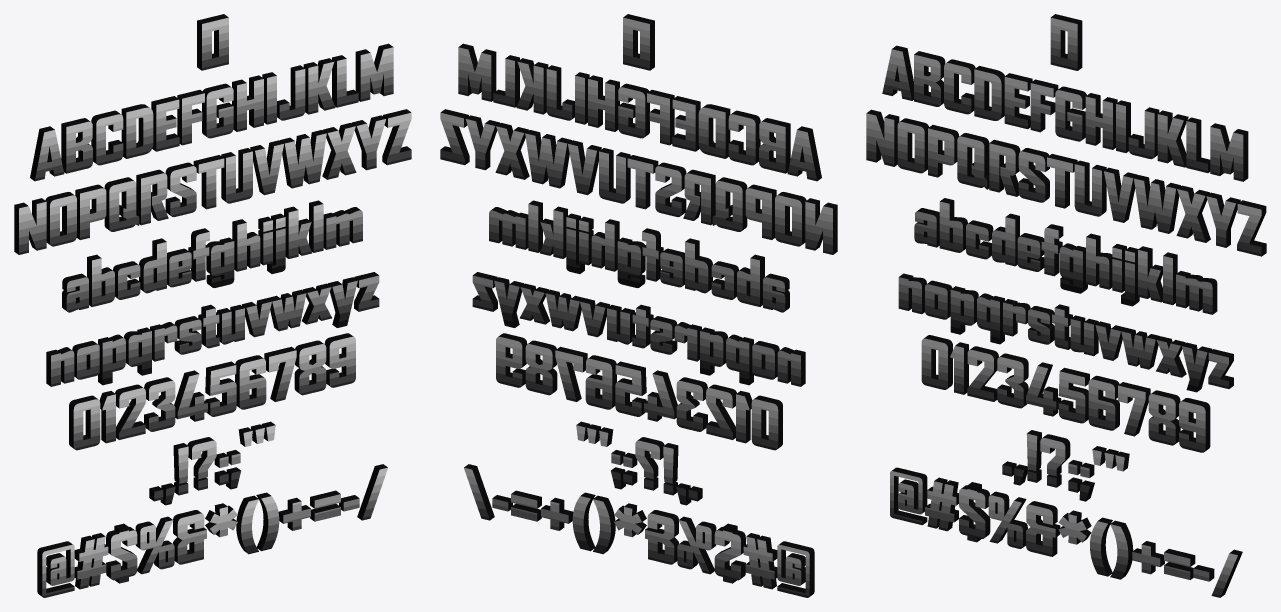
Rendered from font.technical.fbx.
The picture shows the model from 3 angles, left to right: view 1: azimuth 30°, elevation 25°; view 2: azimuth 150°, elevation 25°; view 3: azimuth 330°, elevation 25°; orthographic projection.
Parts seen in each view (by area): view 1: MESH technical.upper.w, MESH technical.symbol.at, MESH technical.upper.m, MESH technical.symbol.percent, MESH technical.upper.n, MESH technical.replacement, MESH technical.upper.q, MESH technical.upper.b, MESH technical.number.0, MESH technical.number.8, MESH technical.symbol.ampersand, MESH technical.upper.d (+64 smaller); view 2: MESH technical.upper.w, MESH technical.symbol.at, MESH technical.upper.m, MESH technical.symbol.percent, MESH technical.upper.n, MESH technical.replacement, MESH technical.upper.q, MESH technical.upper.b, MESH technical.number.0, MESH technical.number.8, MESH technical.symbol.ampersand, MESH technical.upper.d (+64 smaller); view 3: MESH technical.upper.w, MESH technical.upper.m, MESH technical.symbol.at, MESH technical.replacement, MESH technical.upper.q, MESH technical.upper.n, MESH technical.symbol.ampersand, MESH technical.number.9, MESH technical.upper.u, MESH technical.symbol.dollar, MESH technical.symbol.percent, MESH technical.number.6 (+64 smaller).
Part boxes in pixels (x1,y1,x2,y2): MESH technical.upper.w: (280,130,326,188); MESH technical.symbol.at: (37,541,74,597); MESH technical.upper.m: (355,43,393,101); MESH technical.symbol.percent: (135,516,174,574); MESH technical.upper.n: (14,198,46,254); MESH technical.replacement: (197,14,228,70); MESH technical.upper.q: (104,177,139,231); MESH technical.upper.b: (61,118,92,173); MESH technical.number.0: (69,395,100,450); MESH technical.number.8: (294,340,326,395); MESH technical.symbol.ampersand: (173,510,206,564); MESH technical.upper.d: (121,104,153,158); MESH technical.upper.w: (525,130,571,188); MESH technical.symbol.at: (777,541,814,597); MESH technical.upper.m: (458,43,496,101); MESH technical.symbol.percent: (677,516,716,574); MESH technical.upper.n: (805,198,837,254); MESH technical.replacement: (623,14,654,70); MESH technical.upper.q: (712,177,747,231); MESH technical.upper.b: (759,118,790,173); MESH technical.number.0: (751,395,782,450); MESH technical.number.8: (525,340,557,395); MESH technical.symbol.ampersand: (645,510,678,564); MESH technical.upper.d: (698,104,730,158); MESH technical.upper.w: (1134,175,1180,233); MESH technical.upper.m: (1210,123,1248,181); MESH technical.symbol.at: (890,467,927,525); MESH technical.replacement: (1050,14,1082,70); MESH technical.upper.q: (957,133,989,189); MESH technical.upper.n: (866,109,899,166); MESH technical.symbol.ampersand: (1026,501,1060,556); MESH technical.number.9: (1179,398,1210,452); MESH technical.upper.u: (1074,160,1106,216); MESH technical.symbol.dollar: (959,482,990,542); MESH technical.symbol.percent: (988,491,1027,548); MESH technical.number.6: (1088,375,1119,430).
Bounding box in the file's own units: 1177 × 25 × 1551.
Materials: 2 (1 with a texture image).
